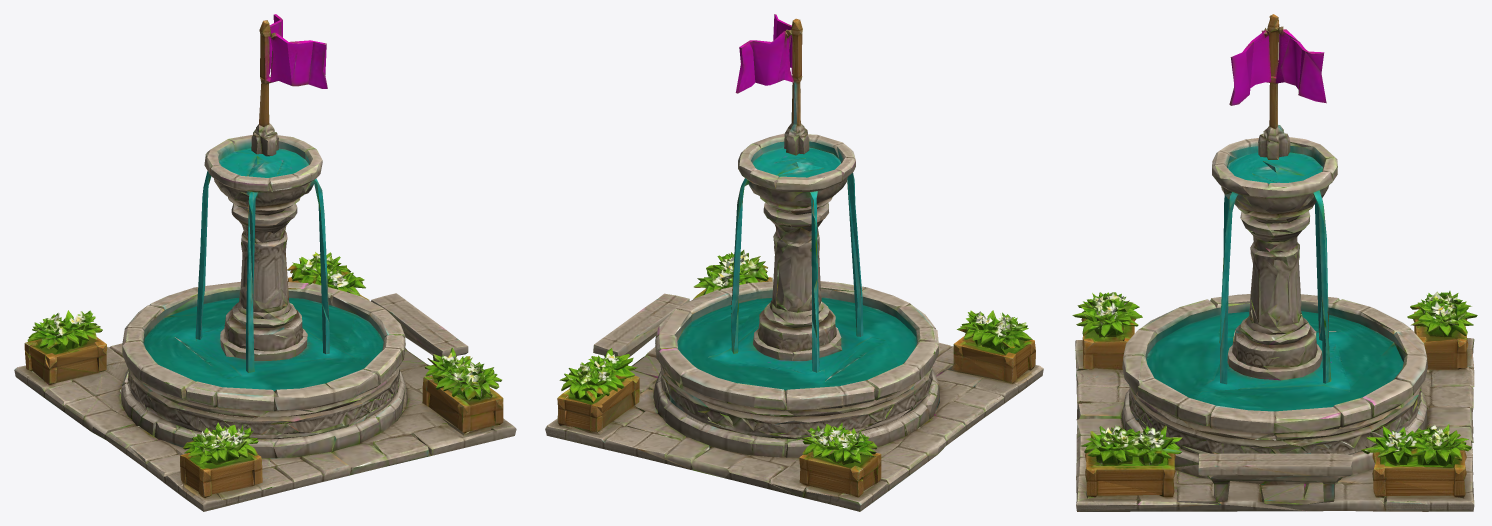
File: fountain.glb
3 views of the same model, side by side, from view 1: azimuth 30°, elevation 25°; view 2: azimuth 150°, elevation 25°; view 3: azimuth 270°, elevation 25° (orthographic). The views are drawn at different scales.
Visible parts, largest first — view 1: Mesh_0; view 2: Mesh_0; view 3: Mesh_0.
Part boxes in pixels (x1,y1,x2,y2): Mesh_0: [14, 14, 516, 511]; Mesh_0: [545, 14, 1043, 511]; Mesh_0: [1072, 14, 1477, 511].
Size of the model in its own units: 1.68 by 1.9 by 1.69.
1 material, 1 textured.
